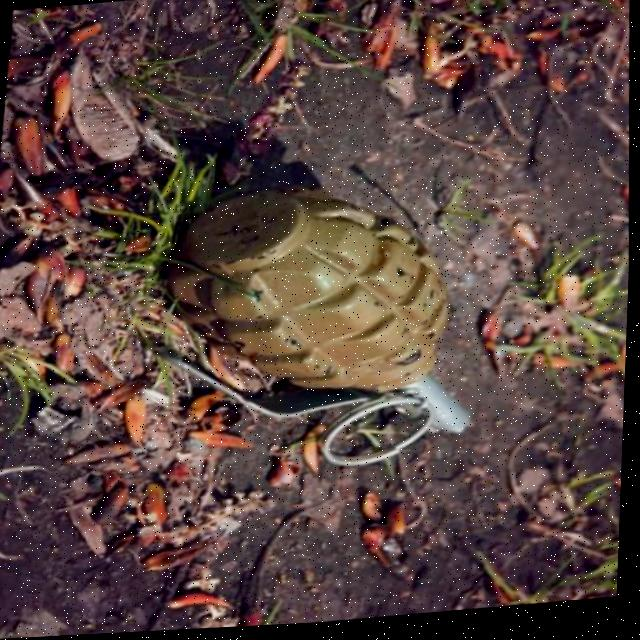grenade: (165, 169, 510, 497)
